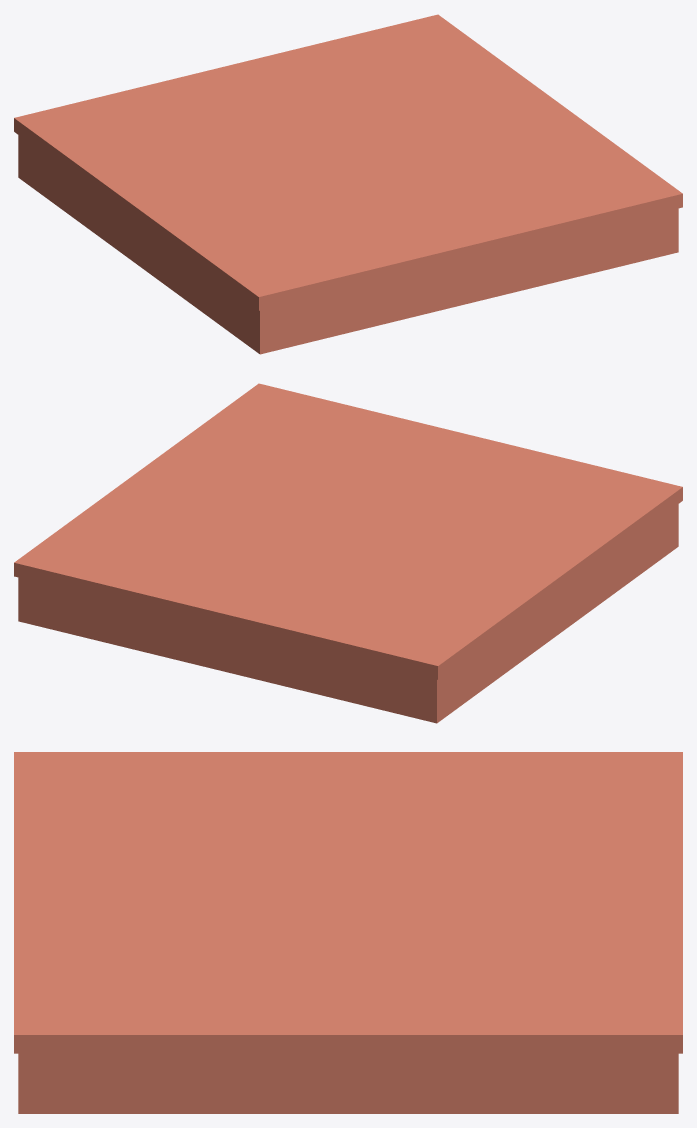
The model's file is Ground.fbx.
3 views of the same model, one above another, from view 1: azimuth 30°, elevation 25°; view 2: azimuth 150°, elevation 25°; view 3: azimuth 270°, elevation 25° (orthographic). The views are drawn at different scales.
Parts seen in each view (by area): view 1: ground; view 2: ground; view 3: ground.
Boxes of the visible parts, bbox=[...] form: ground: bbox=[14, 14, 682, 354]; ground: bbox=[14, 383, 682, 723]; ground: bbox=[14, 752, 682, 1113].
Bounding box in the file's own units: 600 × 80 × 600.
